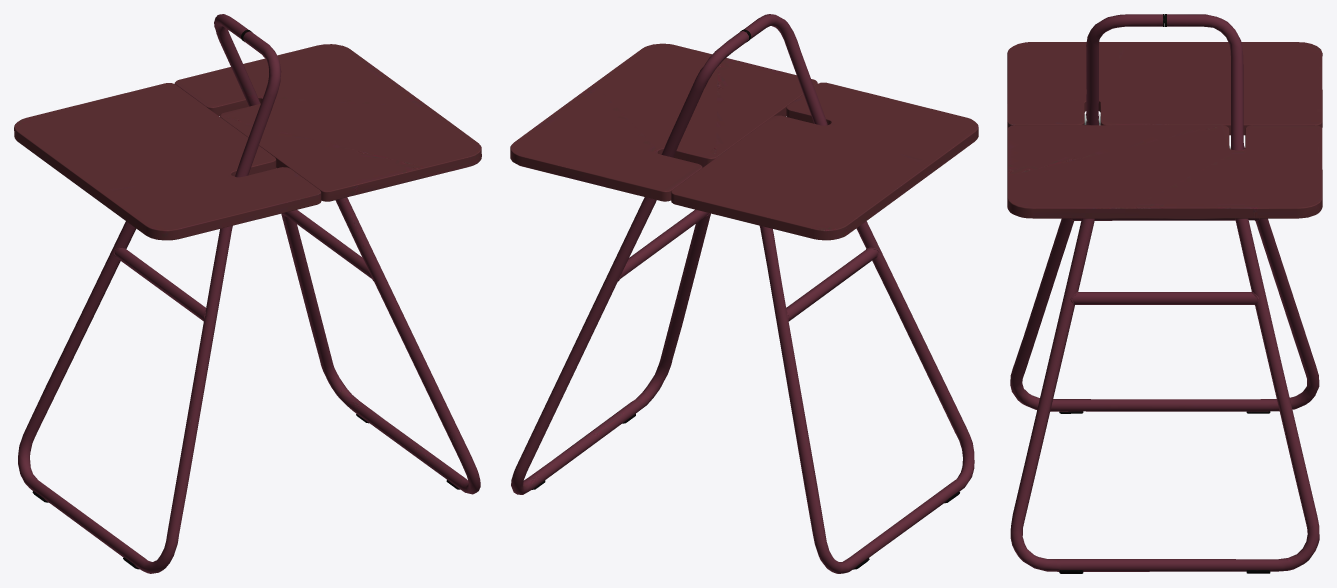
The picture shows the model from 3 angles, left to right: view 1: azimuth 30°, elevation 25°; view 2: azimuth 150°, elevation 25°; view 3: azimuth 270°, elevation 25°; orthographic projection. The views are drawn at different scales.
Visible parts, largest first — view 1: ASY_ART_80621067_S01_NV01; view 2: ASY_ART_80621067_S01_NV01; view 3: ASY_ART_80621067_S01_NV01.
Part boxes in pixels (bbox=[...]): ASY_ART_80621067_S01_NV01: bbox=[14, 14, 481, 573]; ASY_ART_80621067_S01_NV01: bbox=[510, 14, 978, 573]; ASY_ART_80621067_S01_NV01: bbox=[1007, 14, 1322, 573].
Size of the model in its own units: 0.5023 by 0.6636 by 0.3962.
1 material, 1 textured.
